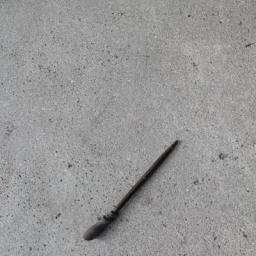FOD: (83, 138, 183, 243)
